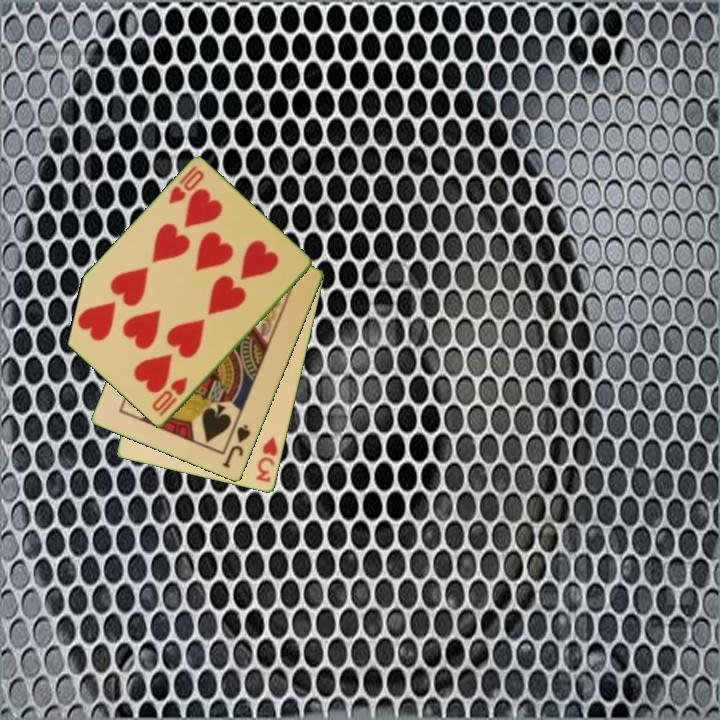10h: (148, 374, 191, 419), (165, 162, 207, 207)
3h: (253, 433, 281, 486)
Js: (219, 421, 254, 471)
